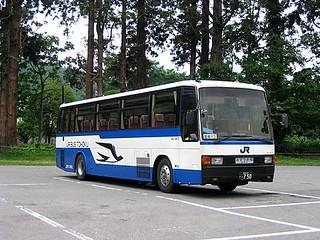bus: (52, 76, 283, 192)
